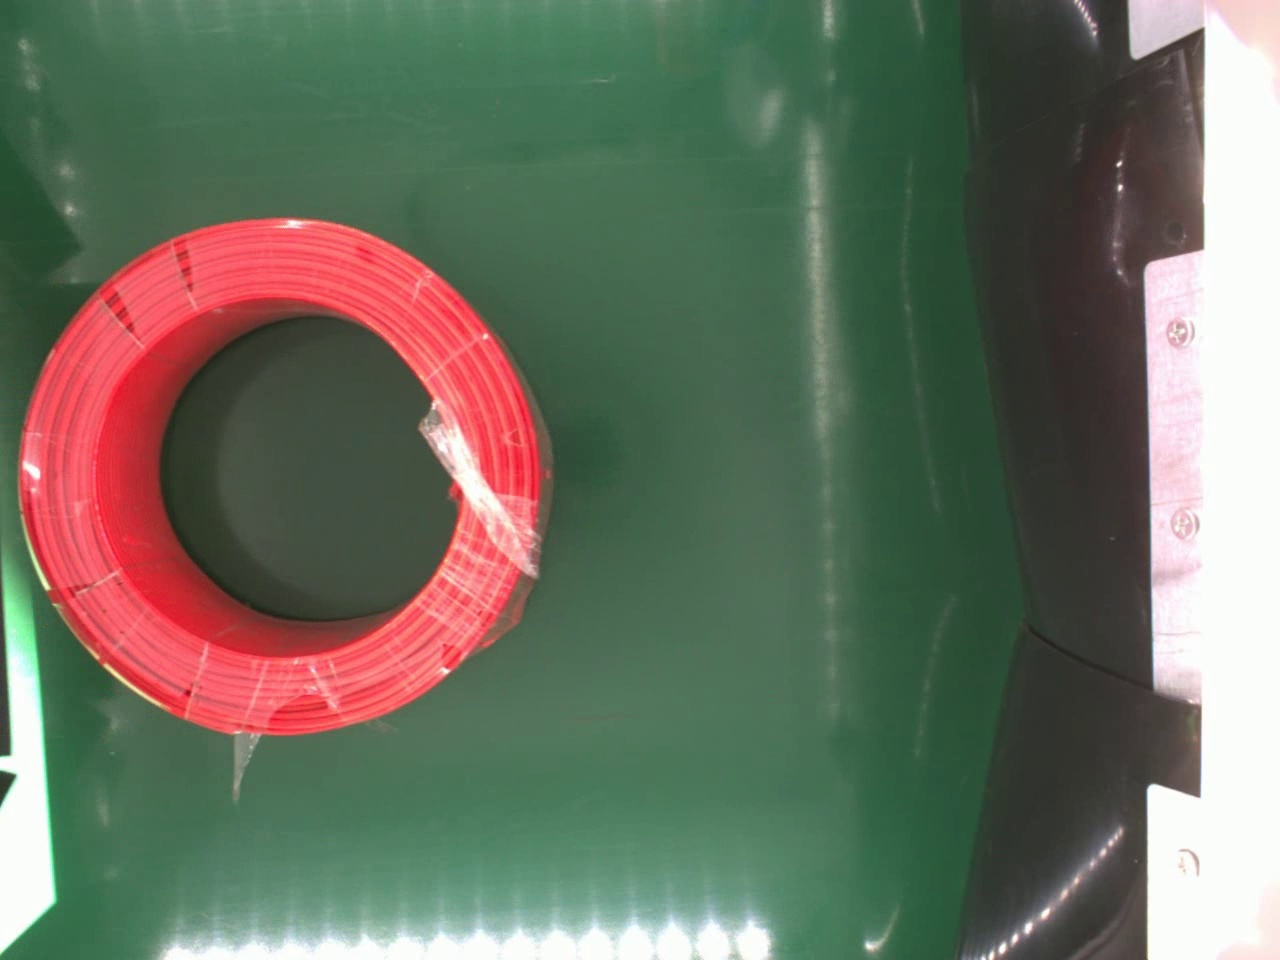red: (17, 213, 550, 738)
